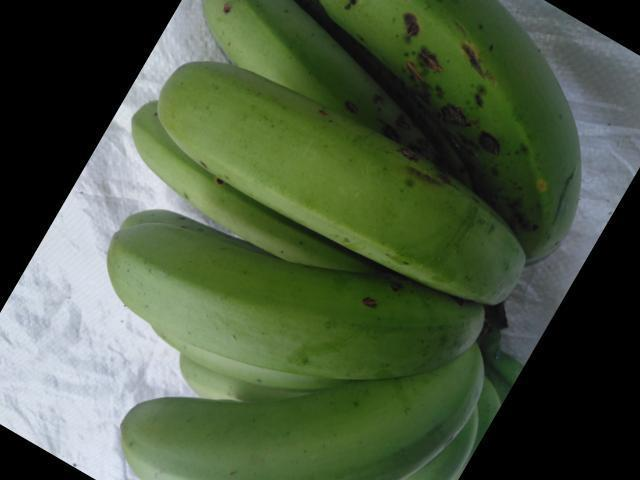unripe: (134, 48, 550, 325), (82, 201, 471, 377), (123, 345, 502, 479)
